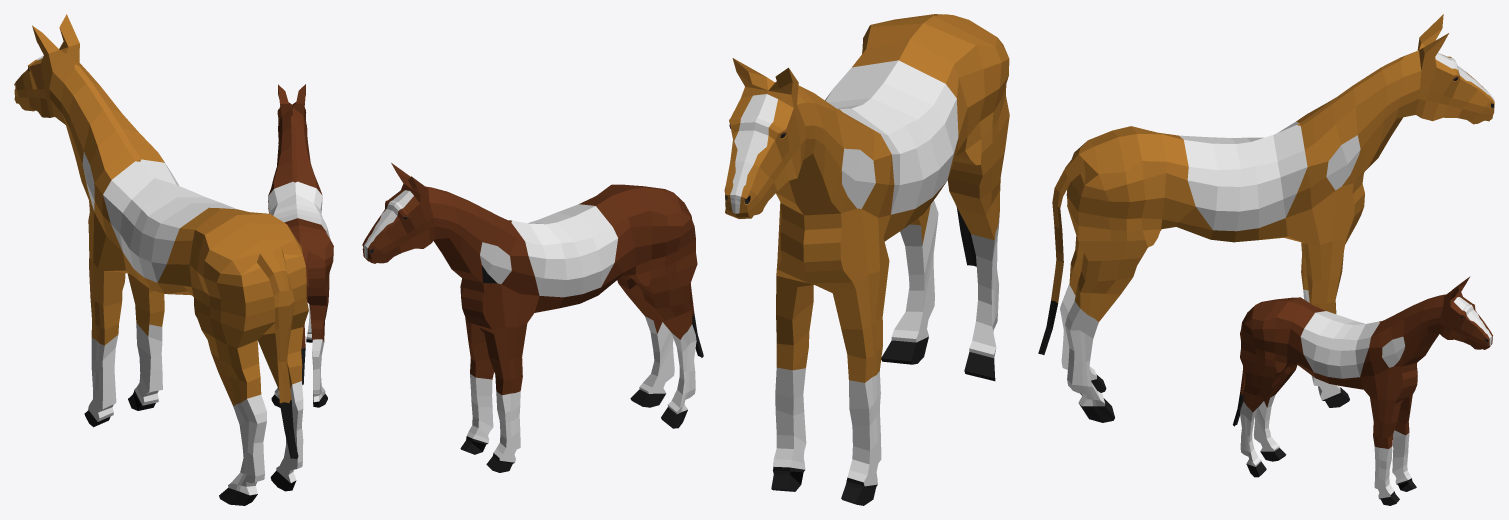
The model's file is Horse Render.glb.
The picture shows the model from 3 angles, left to right: view 1: azimuth 30°, elevation 25°; view 2: azimuth 150°, elevation 25°; view 3: azimuth 270°, elevation 25°; orthographic projection. The views are drawn at different scales.
Parts seen in each view (by area): view 1: HORSE-1, HORSE-2; view 2: HORSE-1, HORSE-2; view 3: HORSE-1, HORSE-2.
Boxes of the visible parts, bbox=[...] form: HORSE-1: bbox=[14, 14, 308, 505]; HORSE-2: bbox=[268, 84, 333, 407]; HORSE-1: bbox=[724, 14, 1009, 505]; HORSE-2: bbox=[362, 163, 703, 472]; HORSE-1: bbox=[1038, 14, 1494, 422]; HORSE-2: bbox=[1233, 276, 1492, 505].
Bounding box in the file's own units: 3.59 × 4.29 × 4.87.
